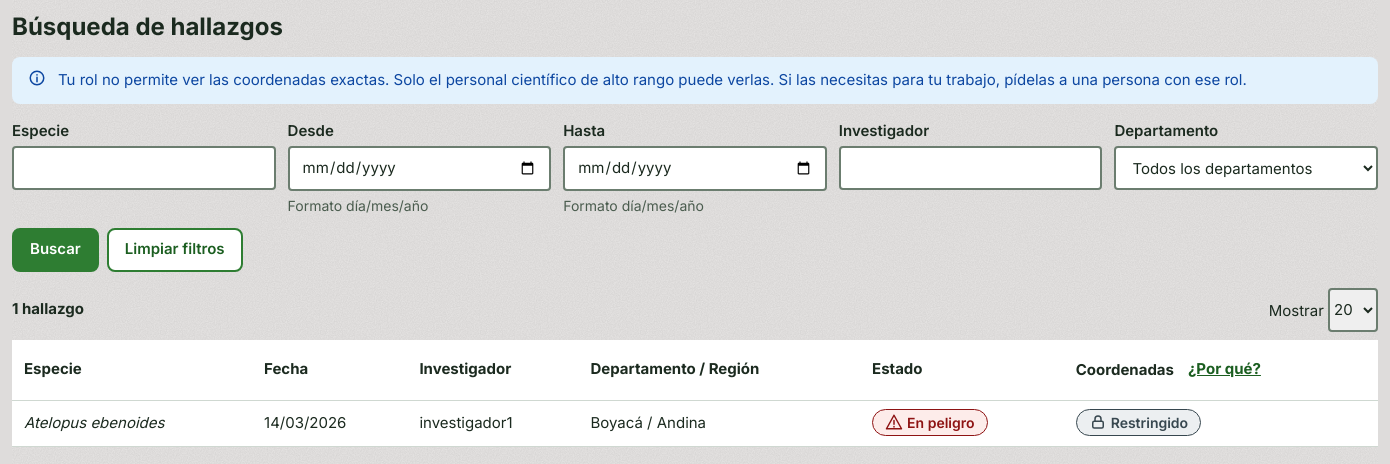
Test: PaginaBusqueda: filtros, paginación y estados › valida longitud mínima de la especie
The width and height of the screenshot is (1390, 464).
Check: the table is shown, box [12, 340, 1378, 446]
Type "a" into the field labelled "Especie" at (144, 168), box [12, 146, 276, 190]
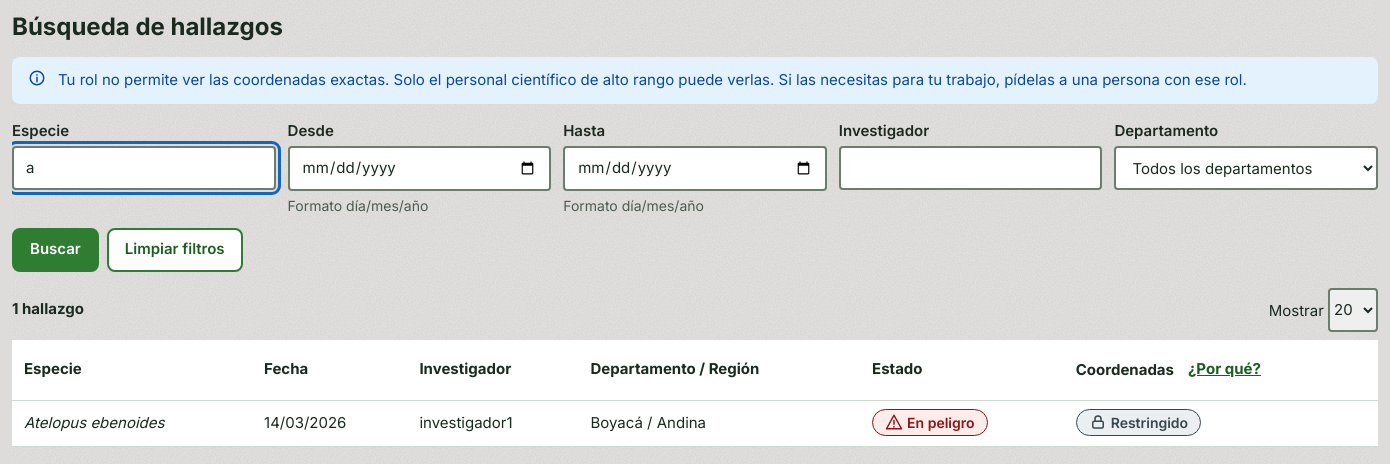
Click the button "Buscar" at (55, 250), box [12, 228, 99, 272]
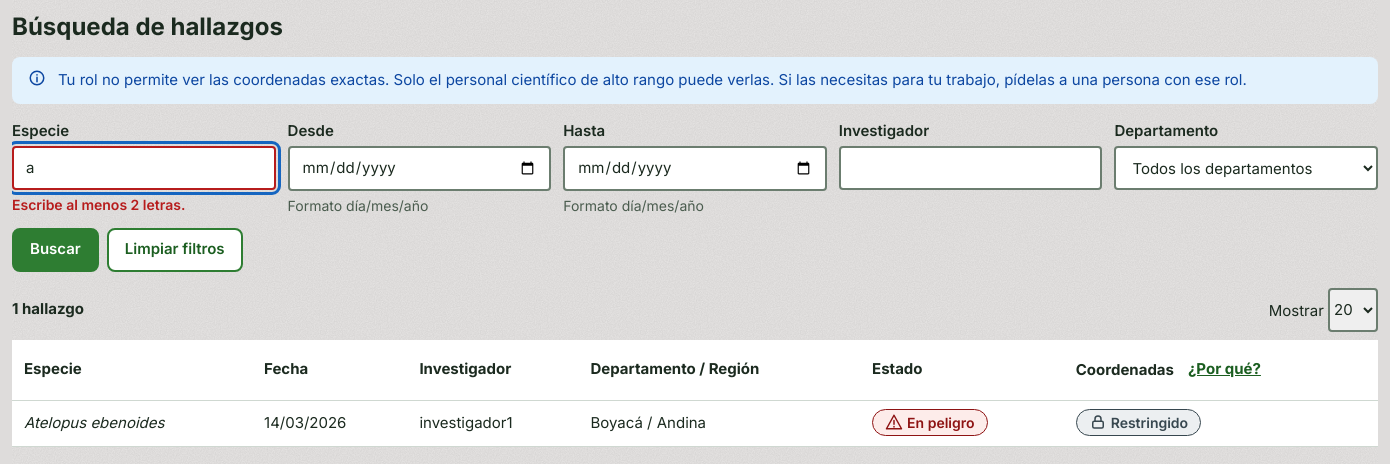
Check: the text "Escribe al menos 2 letras." is shown, box [12, 196, 185, 213]
